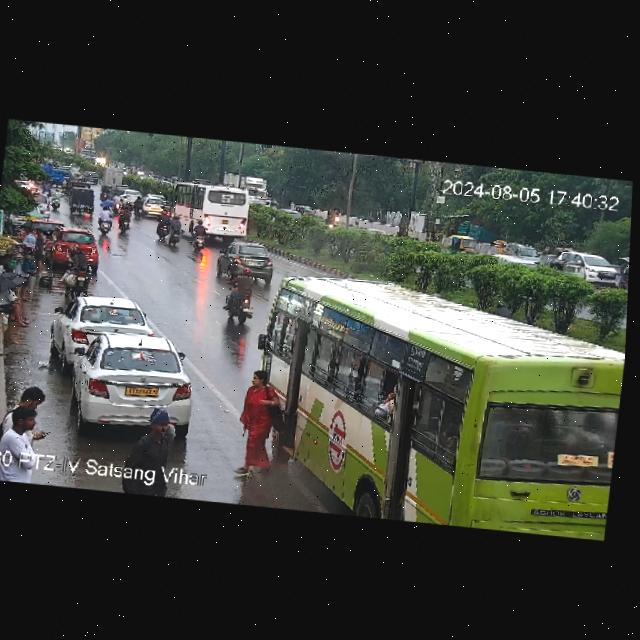bus: (249, 273, 628, 539), (168, 179, 260, 242)
car: (54, 328, 204, 435), (56, 292, 152, 357), (548, 245, 628, 286), (214, 240, 276, 280), (49, 226, 102, 264), (66, 181, 97, 216), (508, 240, 546, 267), (445, 232, 481, 259), (139, 195, 168, 217), (298, 202, 317, 220), (84, 168, 101, 183), (123, 188, 141, 202), (67, 162, 80, 175), (129, 166, 139, 175)
motorcycle: (216, 278, 252, 324), (186, 221, 211, 249), (115, 203, 138, 233), (93, 206, 113, 234), (166, 220, 186, 248), (49, 184, 65, 216), (324, 206, 344, 229), (98, 183, 110, 203)
person: (236, 369, 286, 451), (0, 404, 52, 462), (142, 405, 186, 471), (0, 276, 37, 327), (19, 225, 52, 272), (15, 382, 46, 409), (492, 238, 508, 256), (0, 357, 0, 478)
truck: (220, 169, 275, 206), (72, 135, 98, 162), (99, 165, 124, 189)
